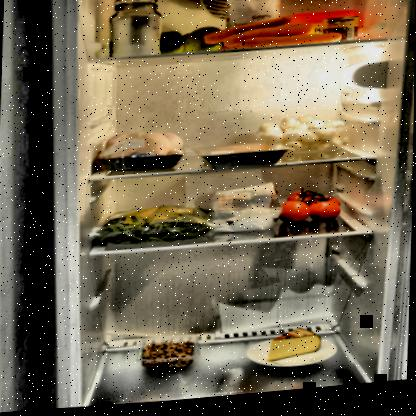apple: (154, 25, 224, 59)
beef: (191, 142, 292, 176)
carrot: (203, 14, 342, 57)
cheese: (268, 331, 324, 368)
chicken: (97, 130, 186, 178)
corn: (321, 21, 360, 50)
mushrooms: (254, 116, 348, 162)
shrimp: (139, 341, 198, 374)
spinach: (97, 204, 219, 249)
tomato: (279, 191, 346, 231)
